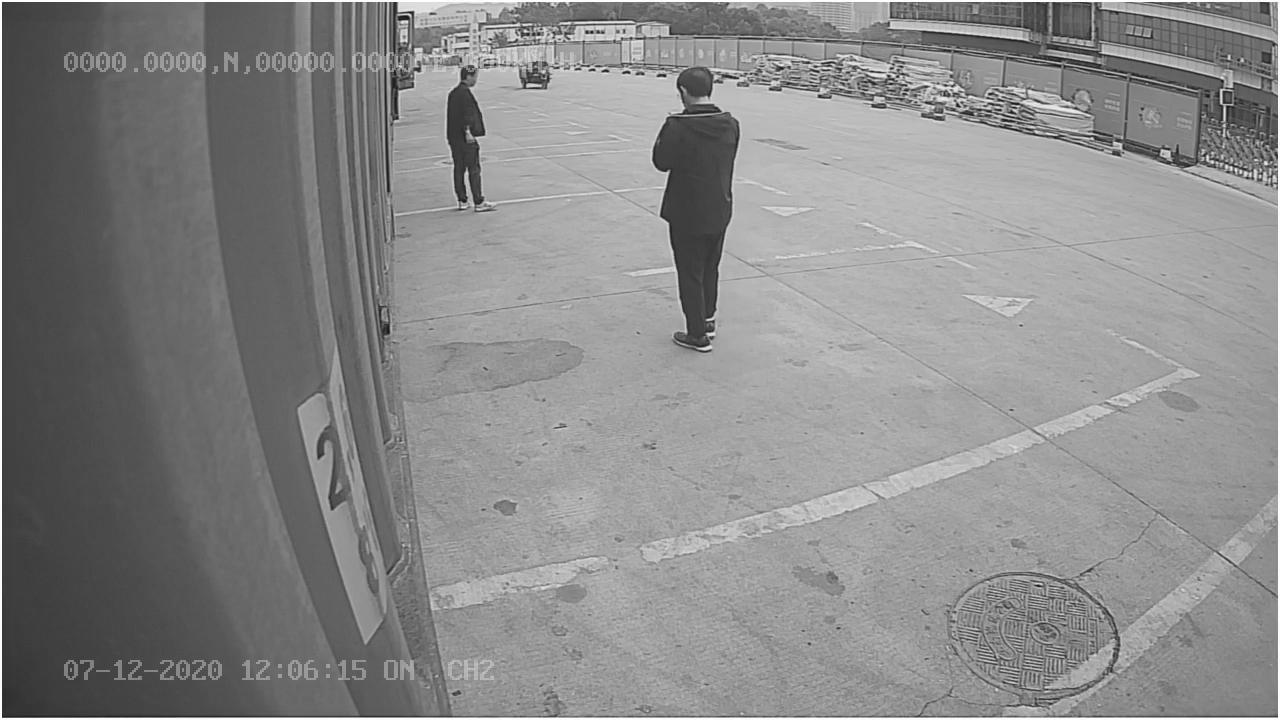person: (649, 62, 745, 352)
